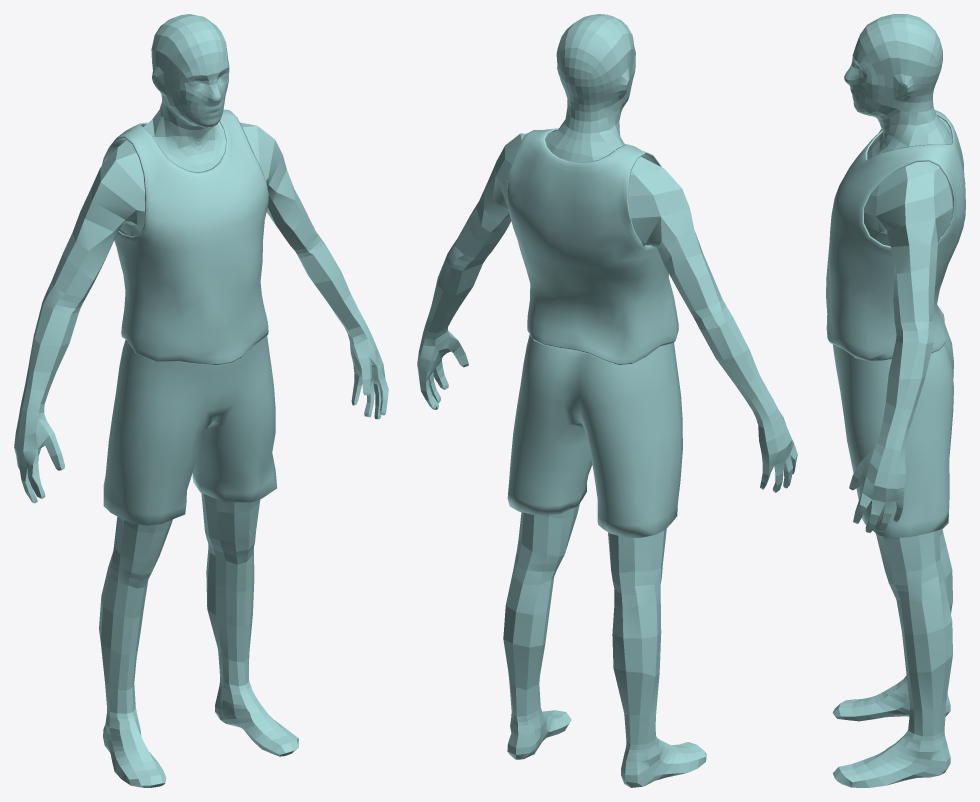
The model's file is Character.fbx.
3 views of the same model, side by side, from view 1: azimuth 30°, elevation 25°; view 2: azimuth 150°, elevation 25°; view 3: azimuth 270°, elevation 25° (orthographic).
Visible parts, largest first — view 1: Character; view 2: Character; view 3: Character.
Part boxes in pixels (bbox=[...]): Character: bbox=[14, 14, 388, 787]; Character: bbox=[417, 14, 797, 787]; Character: bbox=[826, 14, 965, 787].
Bounding box in the file's own units: 94.39 × 182 × 31.62.
